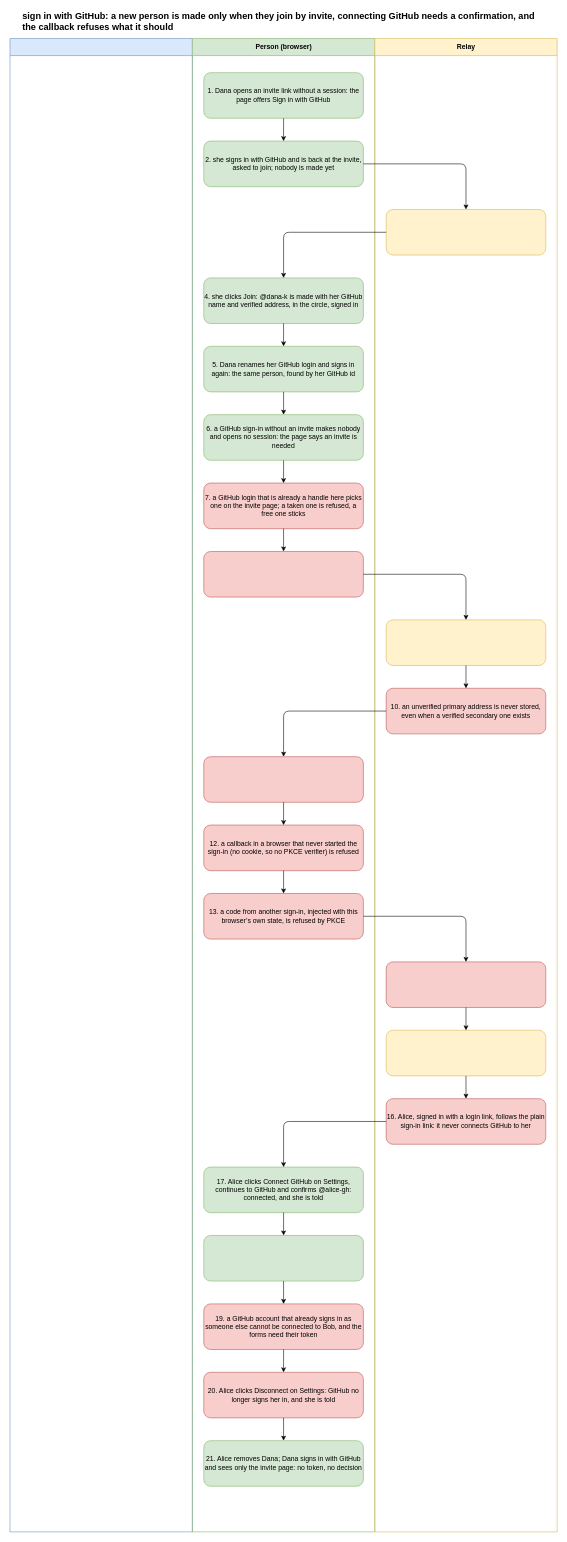
The diagram is 567 pixels wide and 1542 high, and some of its shapes have lost their labels. The shapes that lost their labels are listed below. From the top down, each one's centre as x and y in pixels, then its label:
(x=466, y=232): 3. the relay keeps no GitHub token: it revoked the one it used
(x=283, y=574): 8. the join form is refused from another origin or without its form token
(x=466, y=642): 9. ten tries at taken handles end the sign-in
(x=100, y=785): Agent (MCP client)
(x=283, y=779): 11. a callback with a state that is not this browser’s is refused
(x=466, y=984): 14. a replayed callback is refused, with the same cookie or a fresh sign-in
(x=466, y=1053): 15. a sign-in started by another site is not started
(x=283, y=1258): 18. Bob cancels on the confirmation page: nothing is connected
